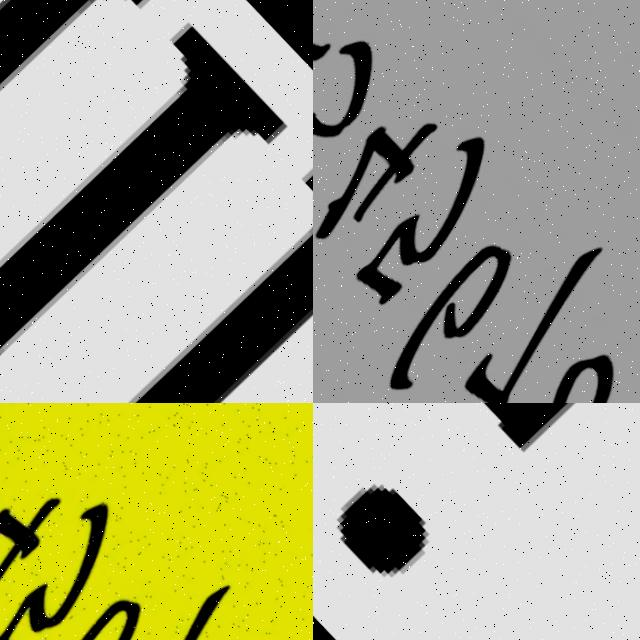2: (313, 0, 348, 170)
3: (313, 21, 408, 216), (0, 403, 53, 628)
4: (313, 80, 454, 294), (0, 441, 103, 640)
5: (332, 108, 537, 327), (0, 453, 187, 640)
6: (354, 204, 554, 403), (0, 538, 209, 640)
7: (431, 207, 640, 403), (39, 525, 309, 640)
8: (457, 309, 640, 403)
9: (556, 325, 640, 403)
I: (313, 403, 640, 640)
M: (0, 0, 313, 403)
